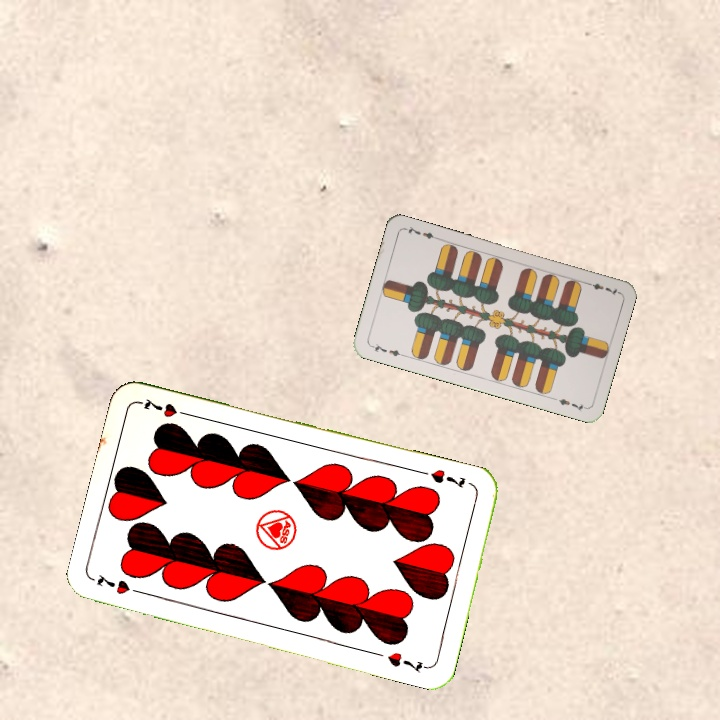E7: (581, 278, 621, 299), (367, 339, 407, 359)
H7: (92, 570, 148, 598), (426, 465, 468, 491)
